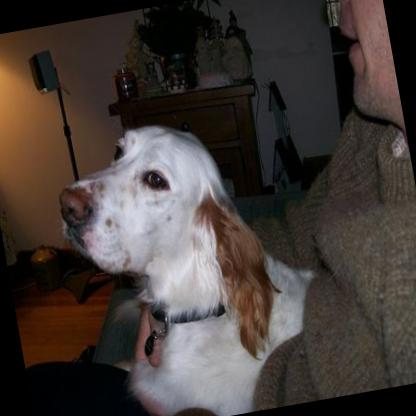English_setter: (42, 95, 337, 416)
